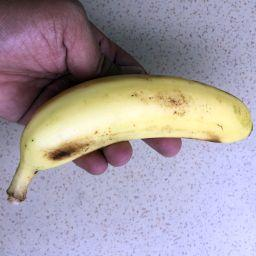Banana Ripe: (18, 70, 255, 179)
